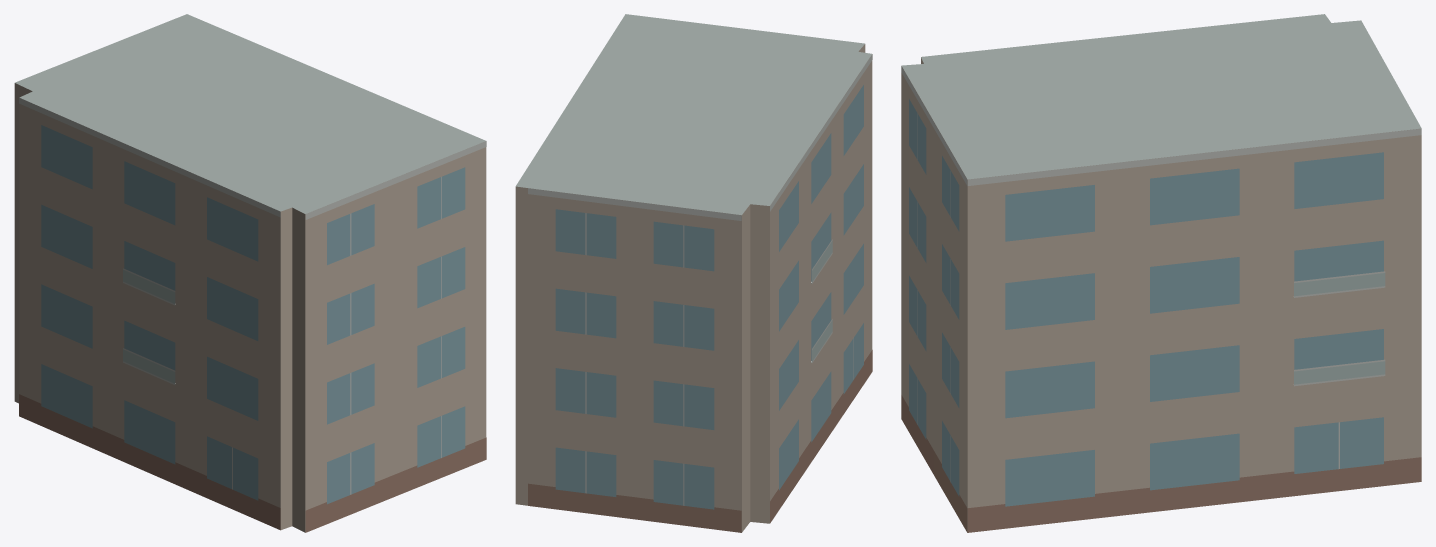
File: survey-upis-32610345.glb
3 views of the same model, side by side, from view 1: azimuth 30°, elevation 25°; view 2: azimuth 150°, elevation 25°; view 3: azimuth 270°, elevation 25° (orthographic). The views are drawn at different scales.
Parts seen in each view (by area): view 1: survey-upis-32610345.tmp; view 2: survey-upis-32610345.tmp; view 3: survey-upis-32610345.tmp.
Part boxes in pixels (x1,y1,x2,y2): survey-upis-32610345.tmp: (14, 14, 486, 532); survey-upis-32610345.tmp: (515, 14, 872, 532); survey-upis-32610345.tmp: (901, 14, 1421, 532).
Size of the model in its own units: 13.07 by 13 by 17.36.
